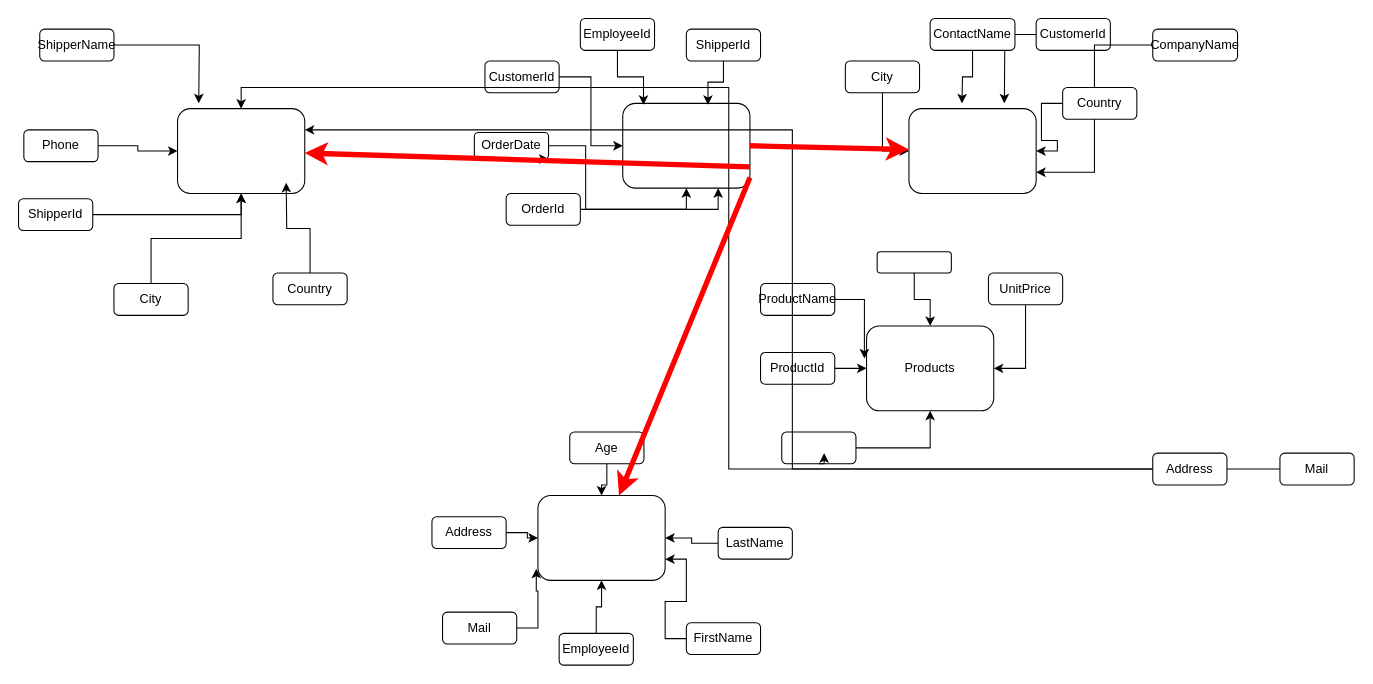
The diagram is 1373 pixels wide and 684 high, and some of its shapes have lost their labels. Here are the shapes that lost their labels. From the top down, the centre of each, then its label:
At point 240,150: "Shipper".
At point 686,145: "Orders".
At point 972,150: "Customers".
At point 913,262: "CategoryId".
At point 818,447: "UnitInStock".
At point 601,537: "Employees".
